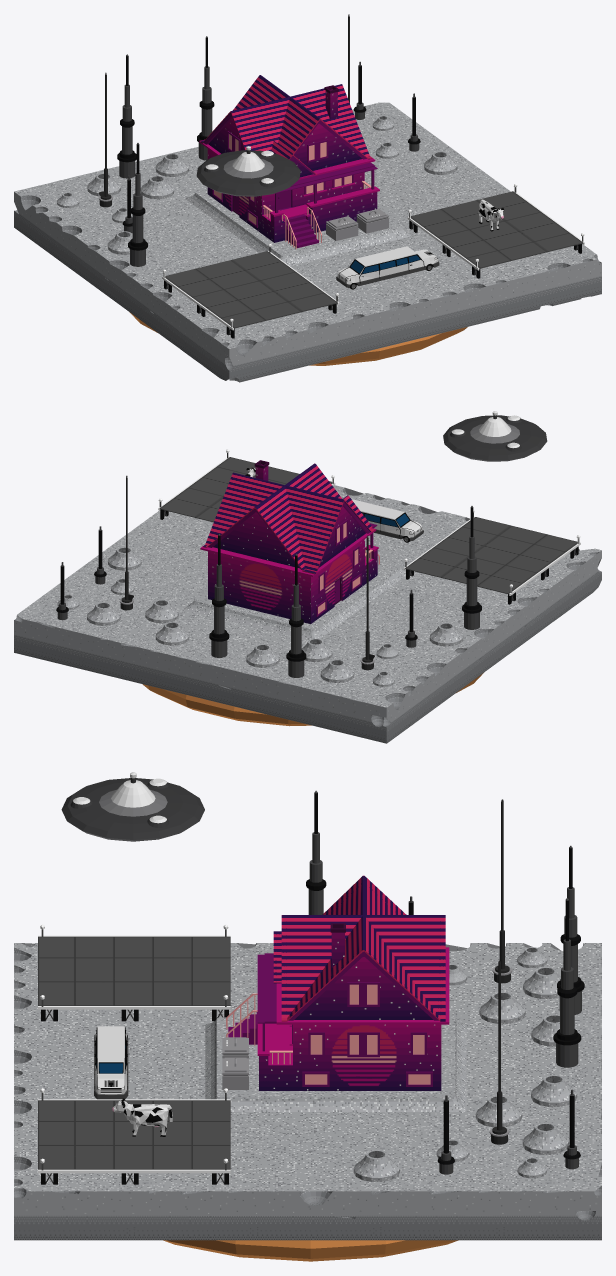
3 renders of one model, top to bottom at view 1: azimuth 30°, elevation 25°; view 2: azimuth 150°, elevation 25°; view 3: azimuth 270°, elevation 25°, orthographic. The views are drawn at different scales.
Parts seen in each view (by area): view 1: Cube.027, Cube.156, Cube.025, Cube.026, Cube.028, OBJRANDOM_UFO, VEHICLES_LIMOUSINE, UNDERGROUND_PIZZA, Cylinder.021, Cylinder.020, Cylinder.017, Cube.029 (+5 smaller); view 2: Cube.027, Cube.156, Cube.025, OBJRANDOM_UFO, Cube.028, Cube.026, UNDERGROUND_PIZZA, VEHICLES_LIMOUSINE, Cylinder.021, Cylinder.020, Cylinder.017, Cylinder.029 (+9 smaller); view 3: Cube.027, Cube.156, Cube.025, Cube.026, Cube.028, OBJRANDOM_UFO, UNDERGROUND_PIZZA, VEHICLES_LIMOUSINE, Cylinder.017, Cylinder.020, Cylinder.021, ANIMAL_VACA (+12 smaller).
Boxes of the visible parts, x1=… form: Cube.027: x1=14, y1=102, x2=601, y2=382; Cube.156: x1=199, y1=75, x2=379, y2=249; Cube.025: x1=162, y1=244, x2=339, y2=338; Cube.026: x1=407, y1=184, x2=584, y2=278; Cube.028: x1=185, y1=189, x2=411, y2=265; OBJRANDOM_UFO: x1=196, y1=146, x2=300, y2=196; VEHICLES_LIMOUSINE: x1=336, y1=246, x2=439, y2=289; UNDERGROUND_PIZZA: x1=129, y1=312, x2=467, y2=365; Cylinder.021: x1=128, y1=143, x2=147, y2=266; Cylinder.020: x1=117, y1=54, x2=136, y2=178; Cylinder.017: x1=197, y1=36, x2=214, y2=160; Cube.029: x1=326, y1=216, x2=358, y2=240; Cube.027: x1=14, y1=485, x2=601, y2=743; Cube.156: x1=200, y1=460, x2=379, y2=623; Cube.025: x1=403, y1=509, x2=580, y2=604; OBJRANDOM_UFO: x1=443, y1=411, x2=547, y2=461; Cube.028: x1=184, y1=560, x2=405, y2=640; Cube.026: x1=158, y1=449, x2=335, y2=522; UNDERGROUND_PIZZA: x1=142, y1=673, x2=483, y2=726; VEHICLES_LIMOUSINE: x1=352, y1=499, x2=423, y2=542; Cylinder.021: x1=462, y1=506, x2=481, y2=629; Cylinder.020: x1=286, y1=554, x2=306, y2=677; Cylinder.017: x1=209, y1=533, x2=229, y2=657; Cylinder.029: x1=155, y1=622, x2=189, y2=645; Cube.027: x1=14, y1=943, x2=601, y2=1240; Cube.156: x1=226, y1=875, x2=449, y2=1090; Cube.025: x1=38, y1=924, x2=230, y2=1021; Cube.026: x1=38, y1=1088, x2=230, y2=1184; Cube.028: x1=205, y1=1017, x2=466, y2=1111; OBJRANDOM_UFO: x1=61, y1=772, x2=204, y2=841; UNDERGROUND_PIZZA: x1=163, y1=1240, x2=458, y2=1261; VEHICLES_LIMOUSINE: x1=94, y1=1026, x2=128, y2=1099; Cylinder.017: x1=553, y1=898, x2=581, y2=1067; Cylinder.020: x1=557, y1=845, x2=584, y2=1014; Cylinder.021: x1=306, y1=790, x2=326, y2=914; ANIMAL_VACA: x1=112, y1=1098, x2=172, y2=1136.
Size of the model in its own units: 4000 by 2251 by 4000.
Materials: 37 (6 with a texture image).
